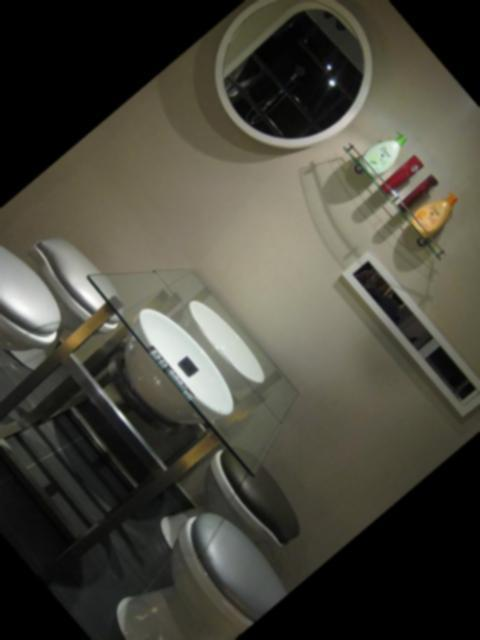Sanitario: (141, 436, 317, 611), (88, 496, 292, 640), (0, 217, 145, 399), (0, 228, 80, 435)
